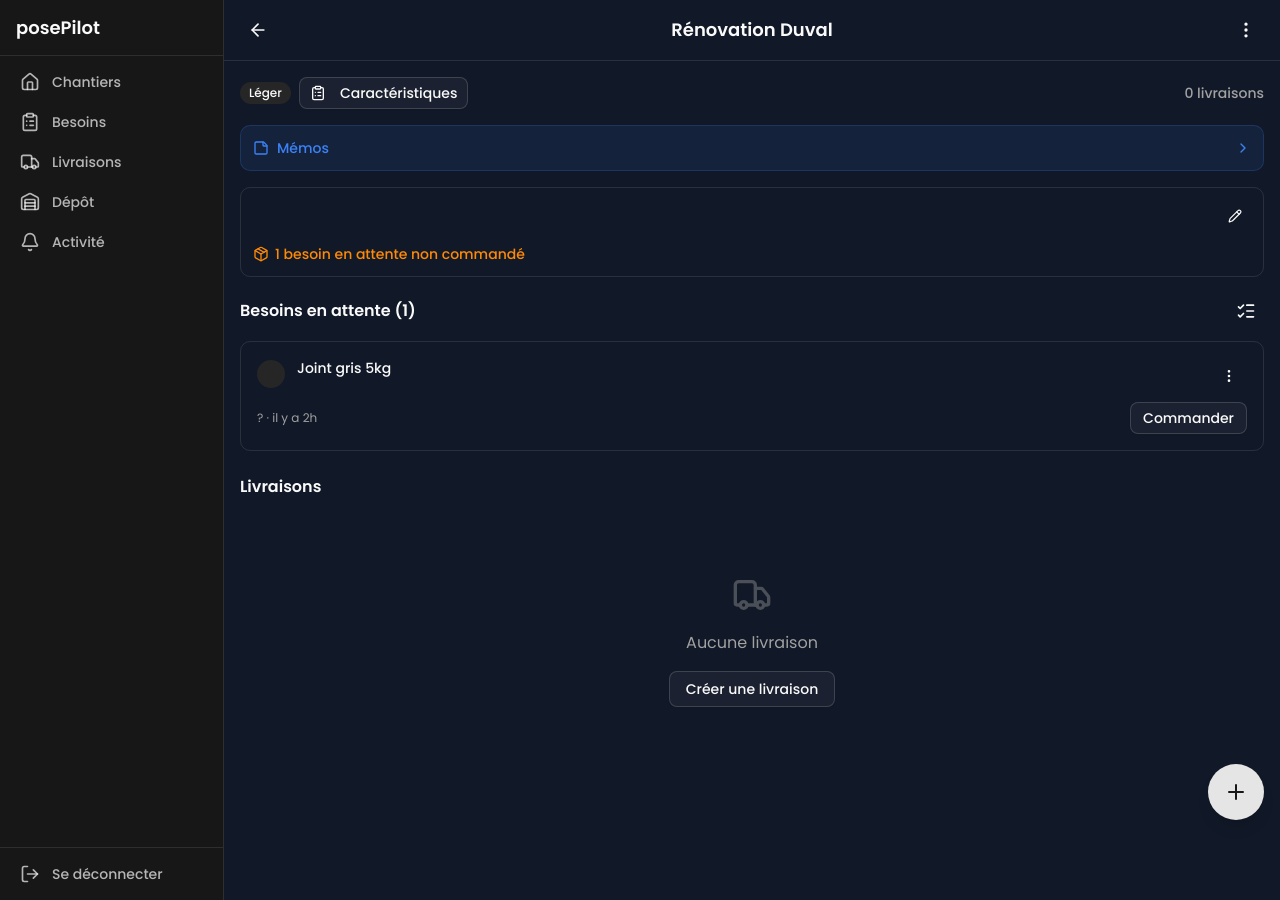
Test case: ChantierIndexPage — léger besoin edit/delete › opens delete dialog from DropdownMenu in léger section
The width and height of the screenshot is (1280, 900).
Expected: the text "Joint gris 5kg" is shown, [297,358,391,378]
Click the button named "Actions": (1229, 376) [1211,358,1247,394]
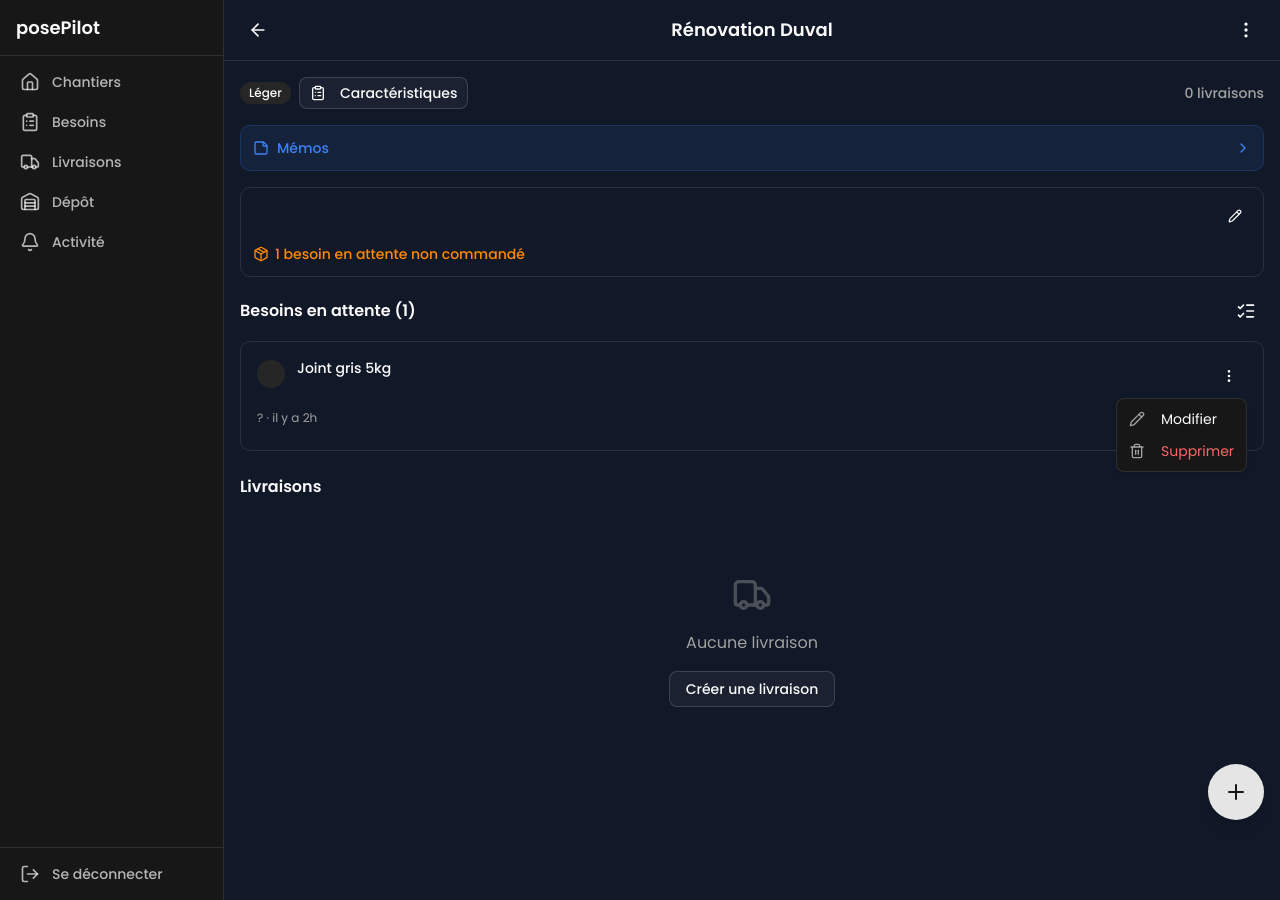
Click the menu item "Supprimer": (1182, 451) [1121,435,1242,467]
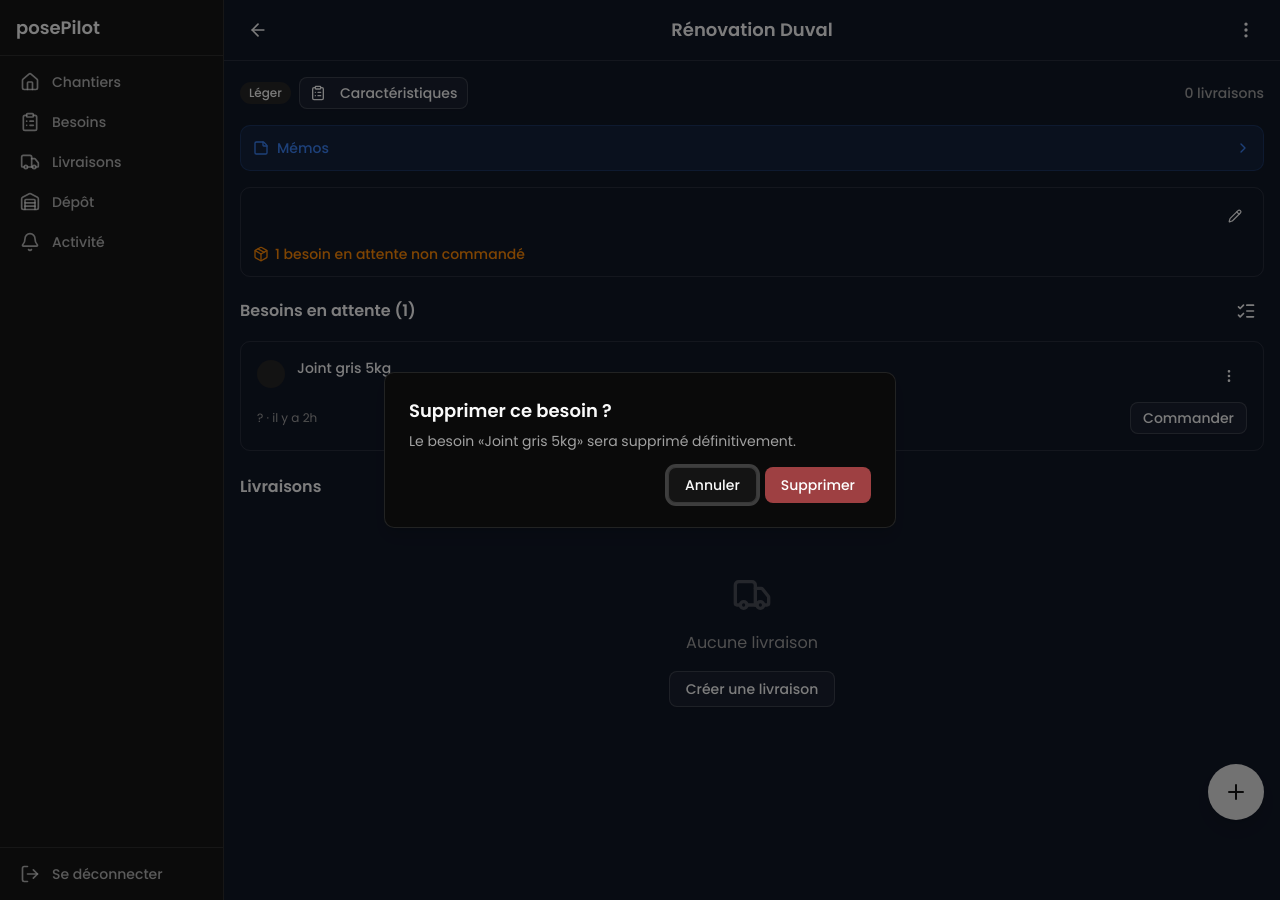
Expected: the heading "Supprimer ce besoin ?" is shown, [409,397,612,425]
